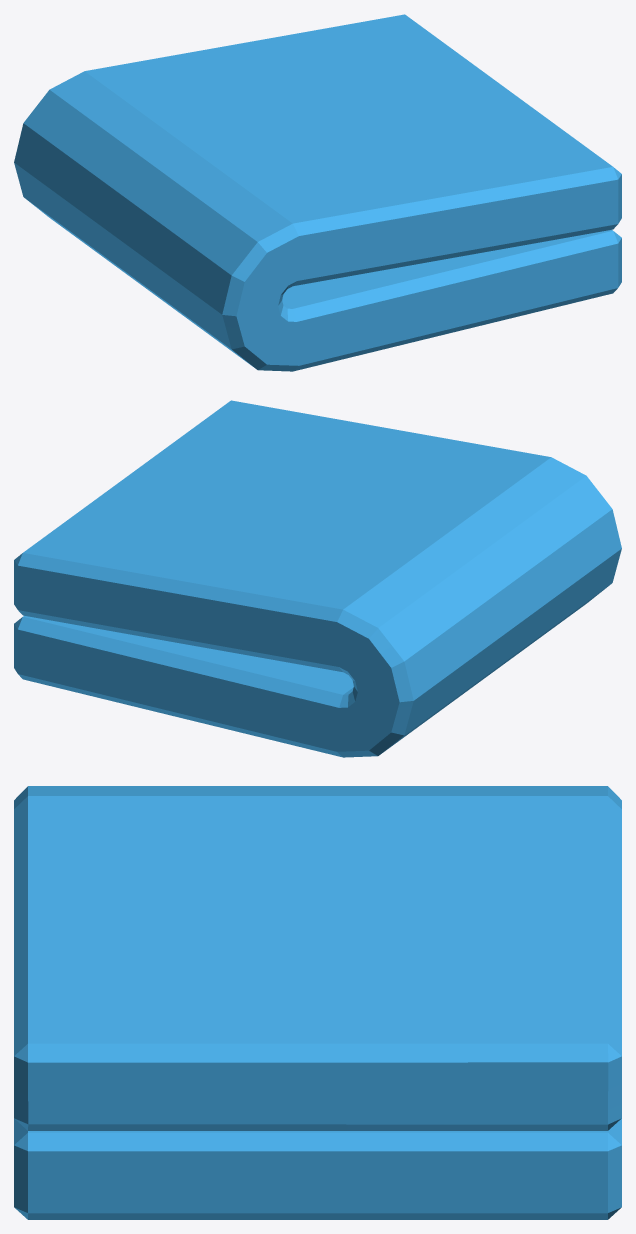
The model's file is towel6.fbx.
3 renders of one model, top to bottom at view 1: azimuth 30°, elevation 25°; view 2: azimuth 150°, elevation 25°; view 3: azimuth 270°, elevation 25°, orthographic. The views are drawn at different scales.
Parts seen in each view (by area): view 1: towel6; view 2: towel6; view 3: towel6.
Part boxes in pixels (x1,y1,x2,y2): towel6: (14,14,621,371); towel6: (14,400,621,757); towel6: (14,786,621,1219).
Size of the model in its own units: 1.5 by 0.5293 by 1.42.
